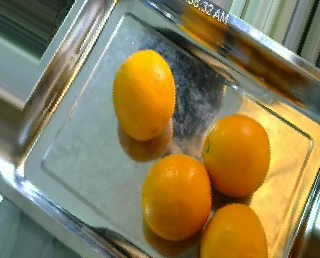Orange: (139, 152, 212, 240), (112, 49, 175, 142), (202, 113, 270, 198)
